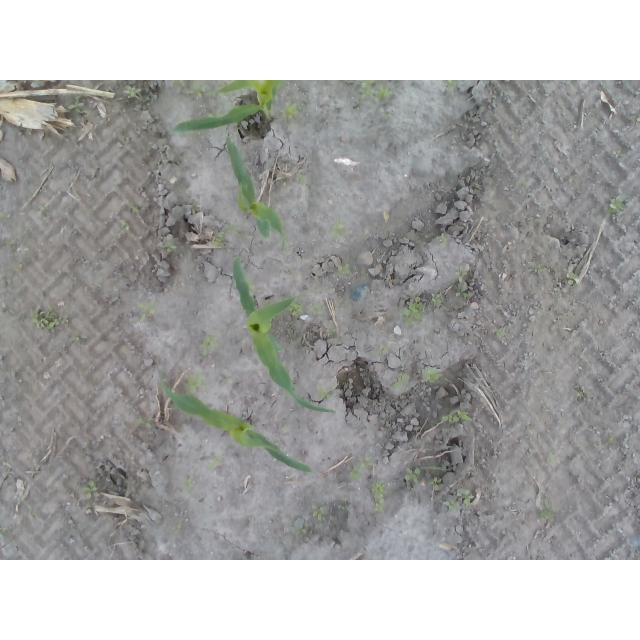Maize: (231, 255, 338, 416), (160, 378, 318, 475), (223, 136, 287, 240), (171, 80, 289, 136)
Weeds: (30, 304, 68, 333), (358, 80, 393, 104), (400, 296, 424, 329), (125, 85, 152, 111), (455, 264, 473, 300), (191, 80, 226, 97), (438, 408, 474, 424), (187, 370, 210, 394), (370, 479, 386, 513), (330, 216, 352, 240), (136, 300, 160, 321), (281, 100, 306, 120), (199, 335, 221, 357), (607, 192, 625, 216), (289, 517, 309, 538), (540, 495, 555, 521), (81, 480, 99, 499), (311, 503, 329, 522), (456, 487, 472, 508), (423, 367, 441, 385), (390, 372, 408, 390), (404, 466, 424, 482), (68, 94, 85, 112), (359, 449, 375, 467), (210, 232, 226, 249), (137, 417, 155, 431), (126, 199, 142, 214), (495, 323, 512, 337), (375, 342, 392, 356), (223, 222, 242, 234), (207, 457, 223, 471), (566, 271, 582, 285), (36, 207, 48, 224), (160, 243, 177, 254), (350, 467, 363, 481), (515, 176, 529, 189), (289, 304, 303, 317), (431, 288, 441, 304), (316, 386, 328, 399), (359, 271, 370, 285), (0, 212, 12, 224), (528, 264, 544, 273), (607, 433, 617, 447), (437, 232, 448, 244), (446, 501, 458, 512), (142, 146, 153, 158), (183, 479, 194, 490), (338, 263, 350, 273), (612, 150, 625, 159), (339, 504, 350, 514), (447, 80, 458, 89), (176, 519, 185, 530), (383, 112, 393, 121), (296, 175, 305, 185), (311, 304, 321, 313), (576, 389, 584, 399), (431, 478, 442, 485), (328, 328, 336, 337), (175, 81, 185, 88), (72, 336, 81, 343)
